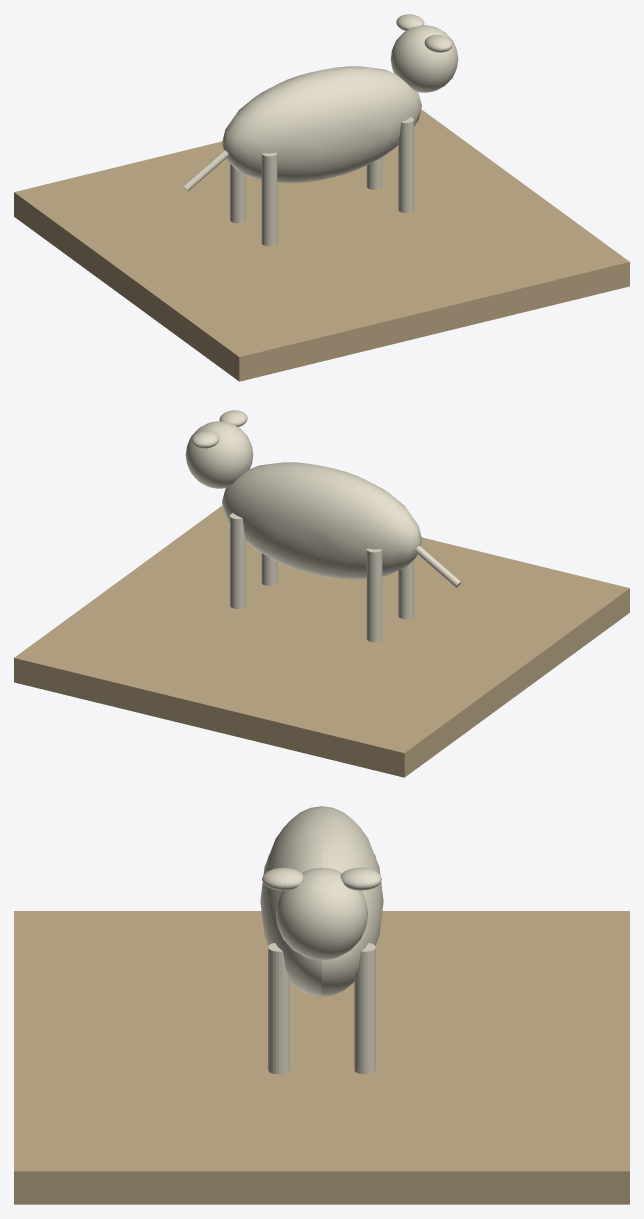
Rendered from cordeiro.glb.
The picture shows the model from 3 angles, top to bottom: view 1: azimuth 30°, elevation 25°; view 2: azimuth 150°, elevation 25°; view 3: azimuth 270°, elevation 25°; orthographic projection. The views are drawn at different scales.
Parts seen in each view (by area): view 1: Base ilustrativa, Corpo, Cabeça, Perna.001, Perna.003, Perna; view 2: Base ilustrativa, Corpo, Cabeça, Perna, Perna.002, Perna.001; view 3: Base ilustrativa, Corpo, Cabeça, Perna.002, Perna.003, Orelha, Orelha.001.
Boxes of the visible parts, x1,y1,x2,y2 form: Base ilustrativa: [14, 109, 629, 381]; Corpo: [222, 66, 421, 183]; Cabeça: [390, 25, 458, 92]; Perna.001: [261, 152, 277, 246]; Perna.003: [398, 117, 413, 212]; Perna: [230, 164, 245, 223]; Base ilustrativa: [14, 505, 629, 777]; Corpo: [222, 462, 421, 579]; Cabeça: [185, 421, 253, 488]; Perna: [366, 548, 382, 642]; Perna.002: [230, 513, 245, 608]; Perna.001: [398, 560, 413, 619]; Base ilustrativa: [14, 911, 629, 1204]; Corpo: [260, 806, 383, 996]; Cabeça: [276, 868, 367, 959]; Perna.002: [354, 943, 375, 1074]; Perna.003: [268, 943, 289, 1074]; Orelha: [340, 867, 381, 890]; Orelha.001: [262, 867, 303, 890].
Size of the model in its own units: 2.6 by 1.27 by 2.6.
